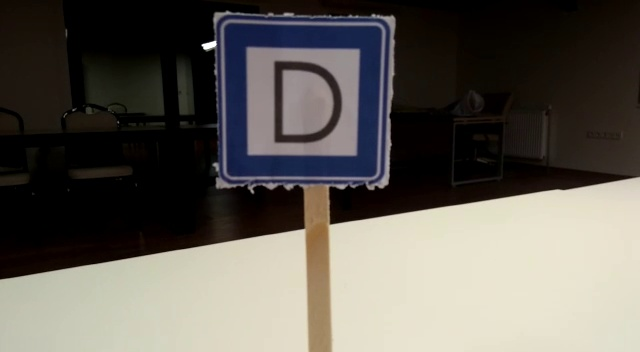durak: (219, 17, 389, 186)
